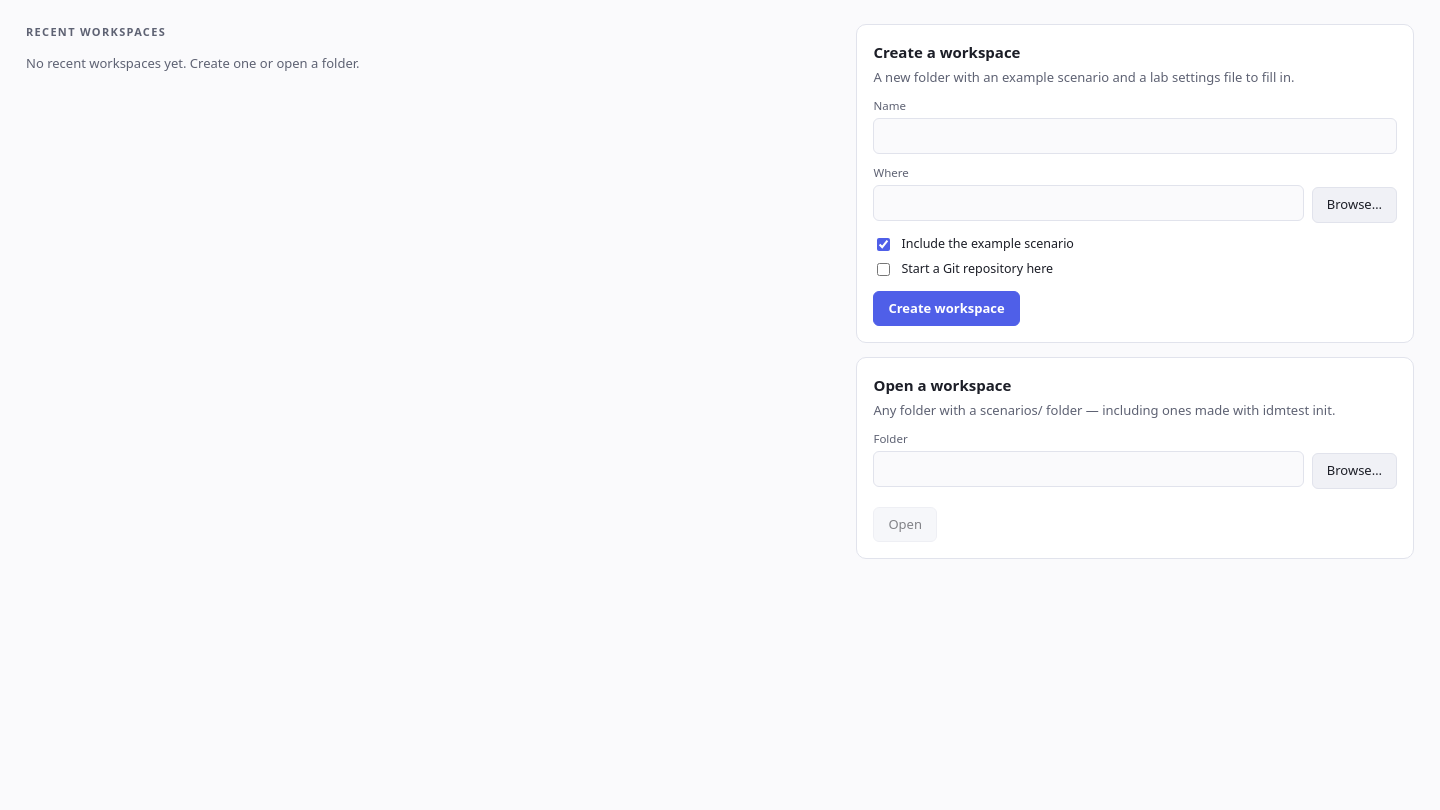
Test: StartPage › Browse… picks the folder to open from the folder picker
Click the 2nd button "Browse…". click: (1354, 471)
box: [1312,453,1397,489]
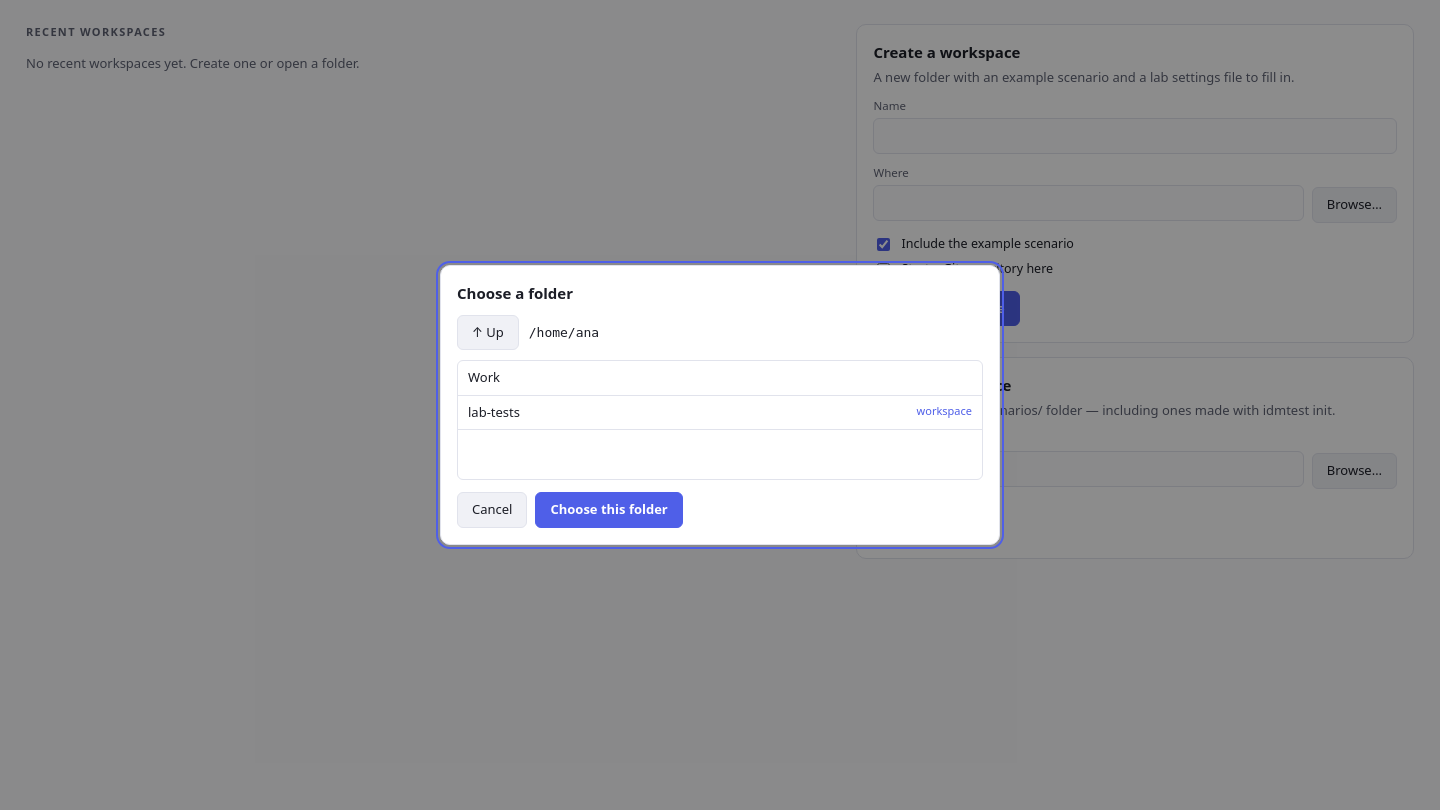
Check: the button "lab-tests workspace" is shown, box [458,396,982,430]
Click the button "Work". click: (484, 377)
box: [458,361,982,396]
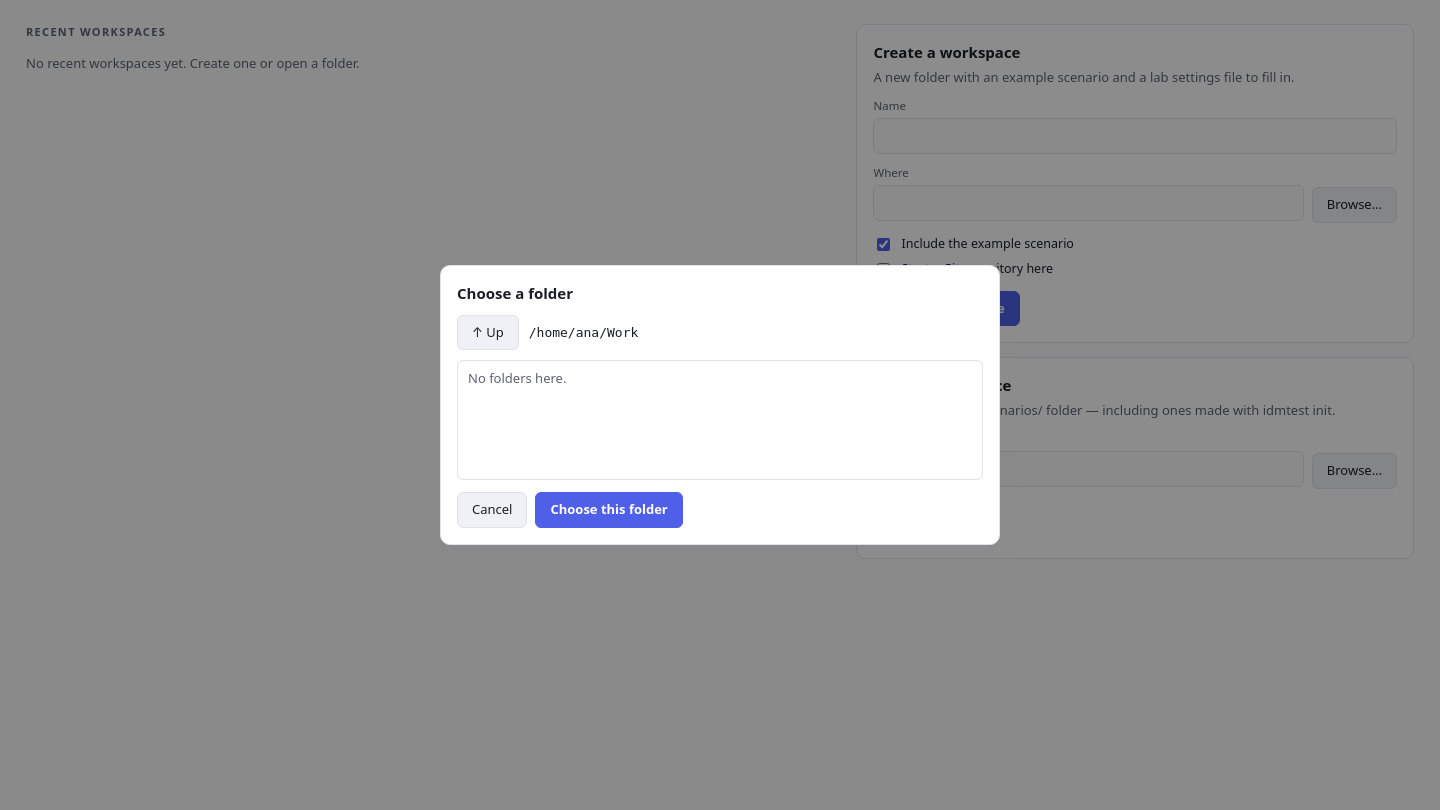
Check: the text "/home/ana/Work" is shown, box [529,323,638,342]
Click the button "Choose this folder". click: (609, 510)
box: [536,492,683,528]
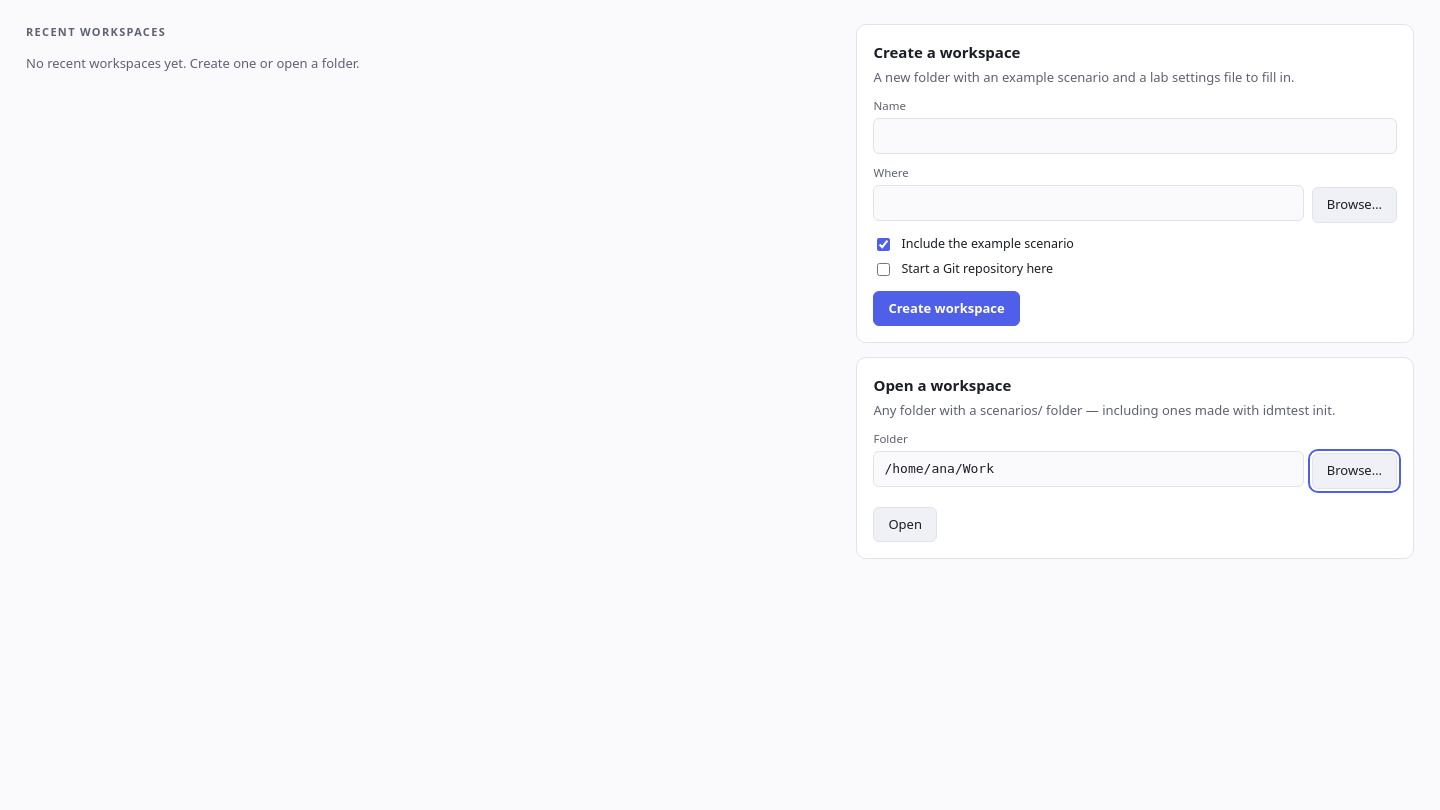
Check: the dialog is gone
Check: the field labelled "Folder" holds "/home/ana/Work", box [873,451,1304,487]
